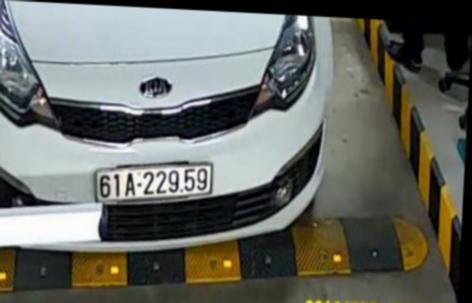License_Plate: (89, 157, 219, 207)
